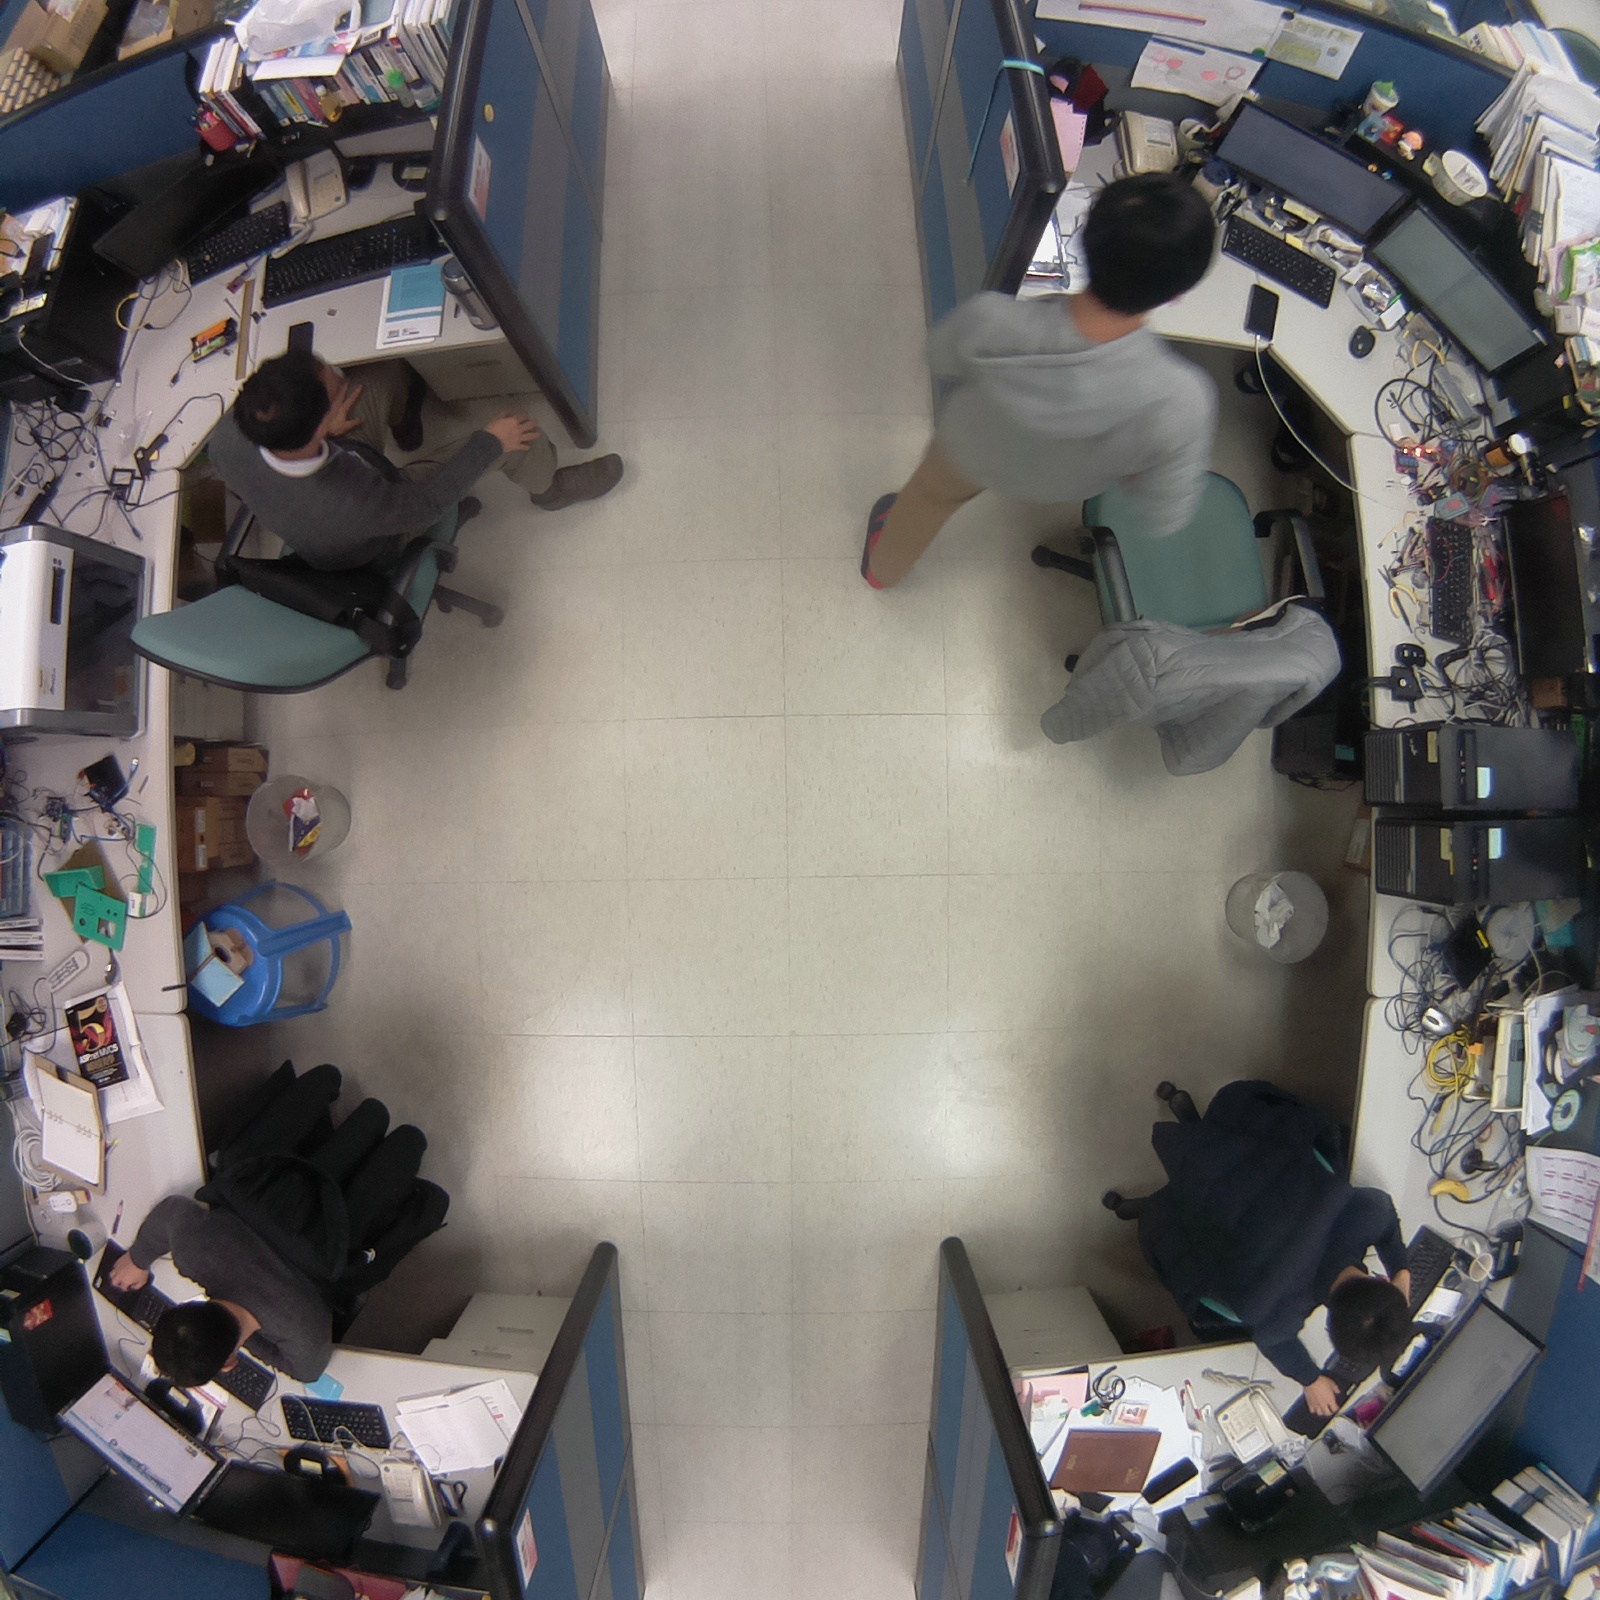chair: (1006, 447, 1353, 804)
head: (1074, 163, 1221, 312), (225, 346, 349, 455), (1315, 1270, 1419, 1382), (142, 1295, 249, 1395)
sitting: (112, 351, 642, 719), (99, 1029, 473, 1397), (1078, 1047, 1425, 1427)
standing: (844, 167, 1236, 598)
